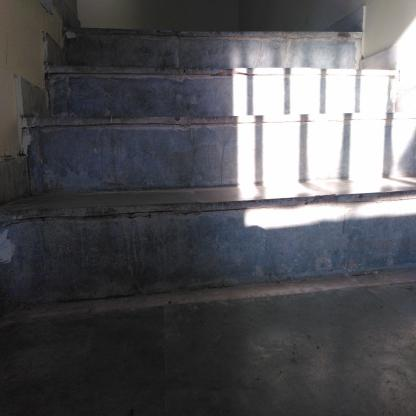stairs: (67, 26, 363, 301)
